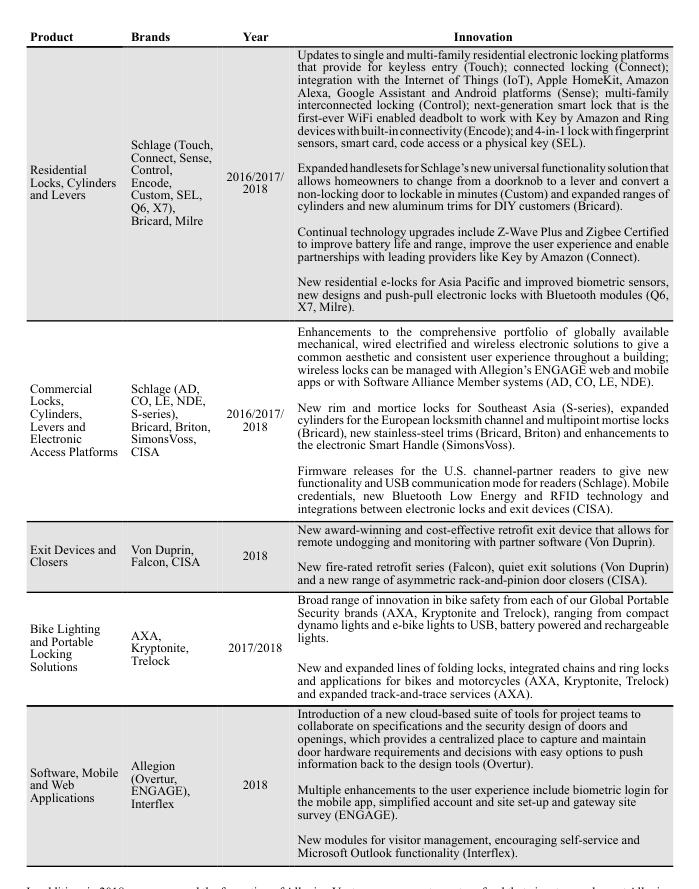table: (28, 28, 667, 858)
table column: (289, 28, 667, 858), (28, 28, 123, 858), (123, 28, 218, 858), (218, 28, 289, 858)
table column header: (28, 28, 667, 44)
table row: (28, 44, 667, 318), (28, 318, 667, 517), (28, 702, 667, 858), (28, 588, 667, 702), (28, 517, 667, 588), (28, 28, 667, 44)
